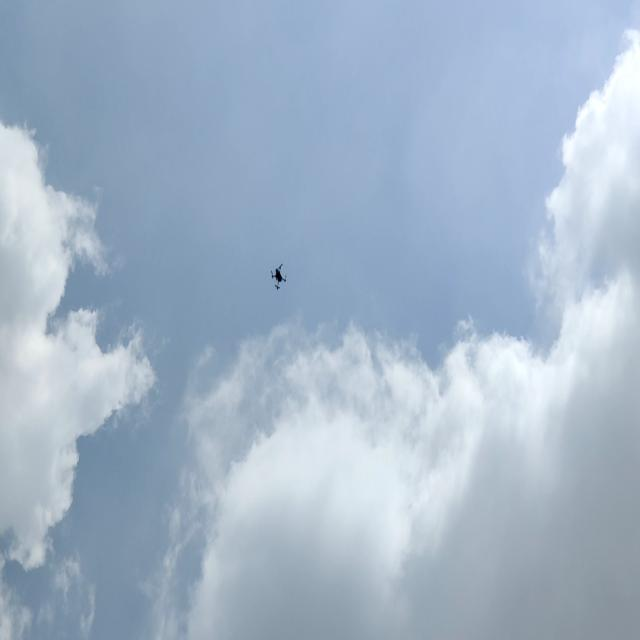drone: (266, 260, 291, 294)
